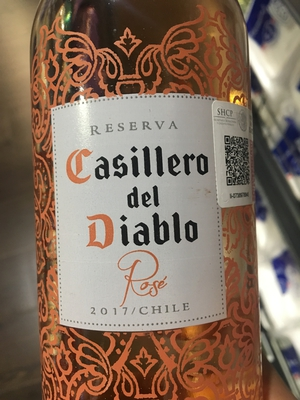casillero del diablo rose: (29, 11, 268, 400)
